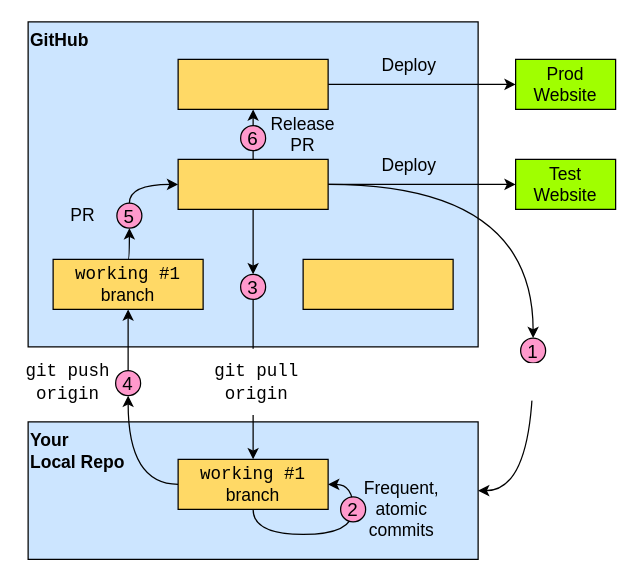
The diagram is 638 pixels wide and 581 high, and some of its shapes have lost their labels. The shapes that lost their labels are listed below. From the top down, each one's centre as x and y in pixels, then its label:
(x=252, y=83): main branch
(x=252, y=183): development branch
(x=377, y=283): working #n branch
(x=532, y=381): Clone
